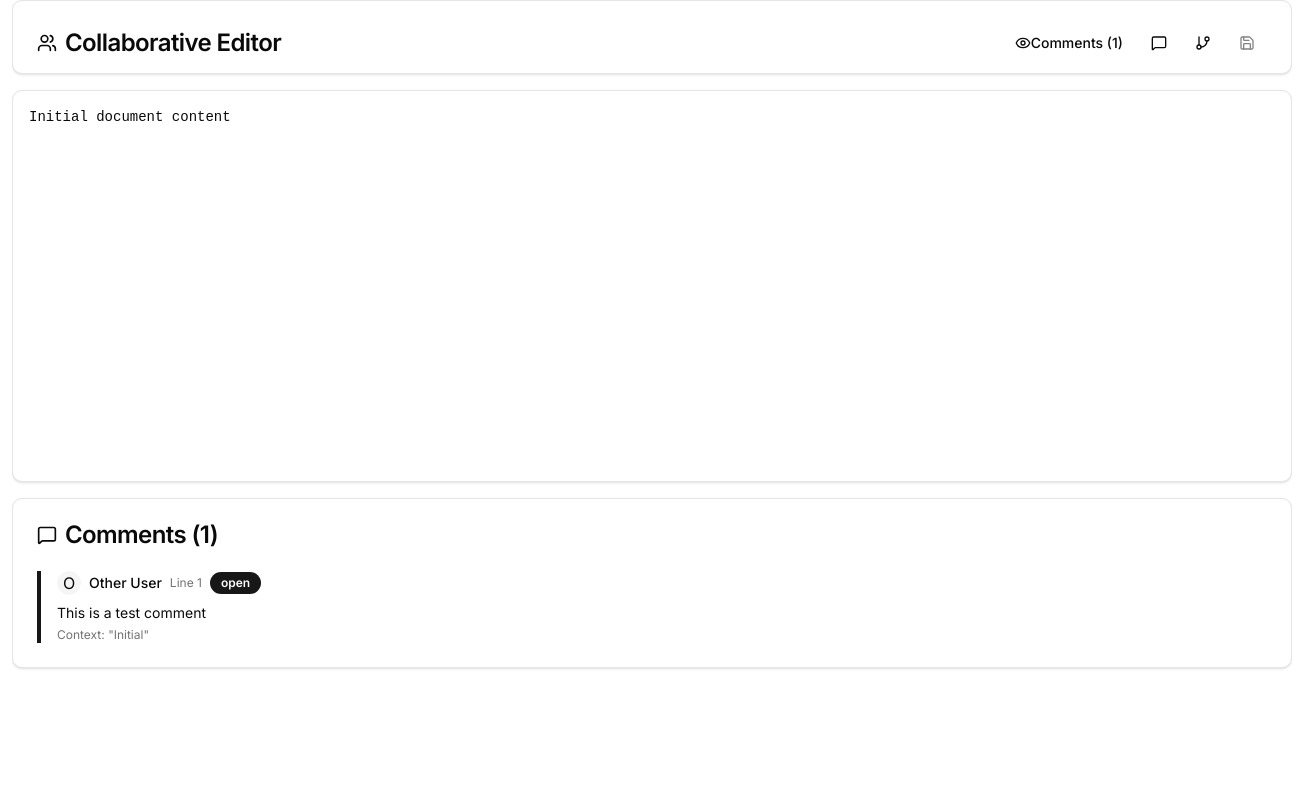
CollaborativeEditor › toggles comments visibility
Expected: the text "This is a test comment" is shown, [57,604,206,621]
Click the button "Comments (1)" at (1069, 43), box [1003,25,1135,61]
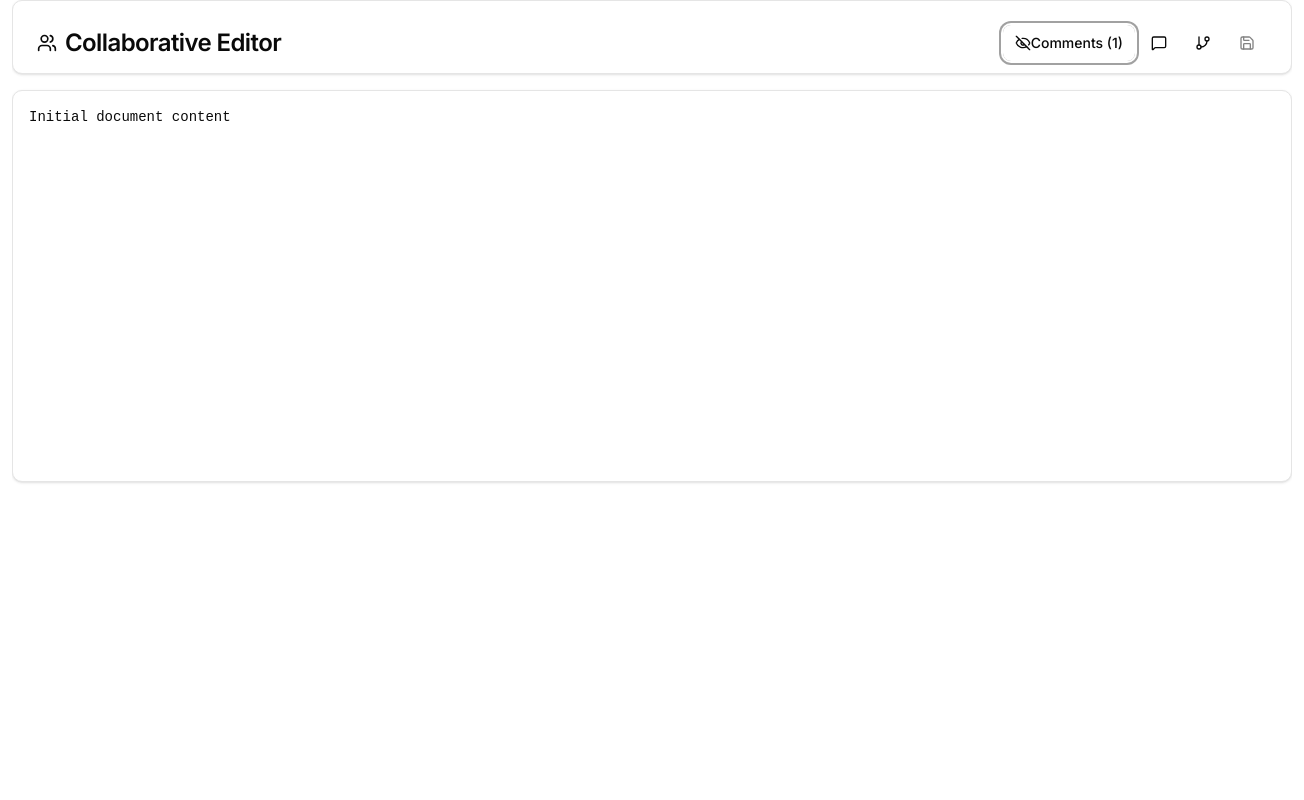
Now the text "This is a test comment" is gone
